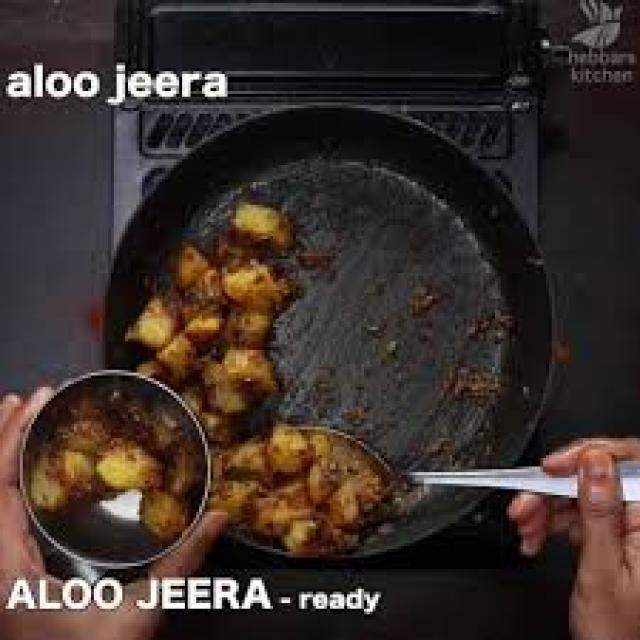papad: (203, 413, 409, 555)
roti: (203, 416, 405, 551)
